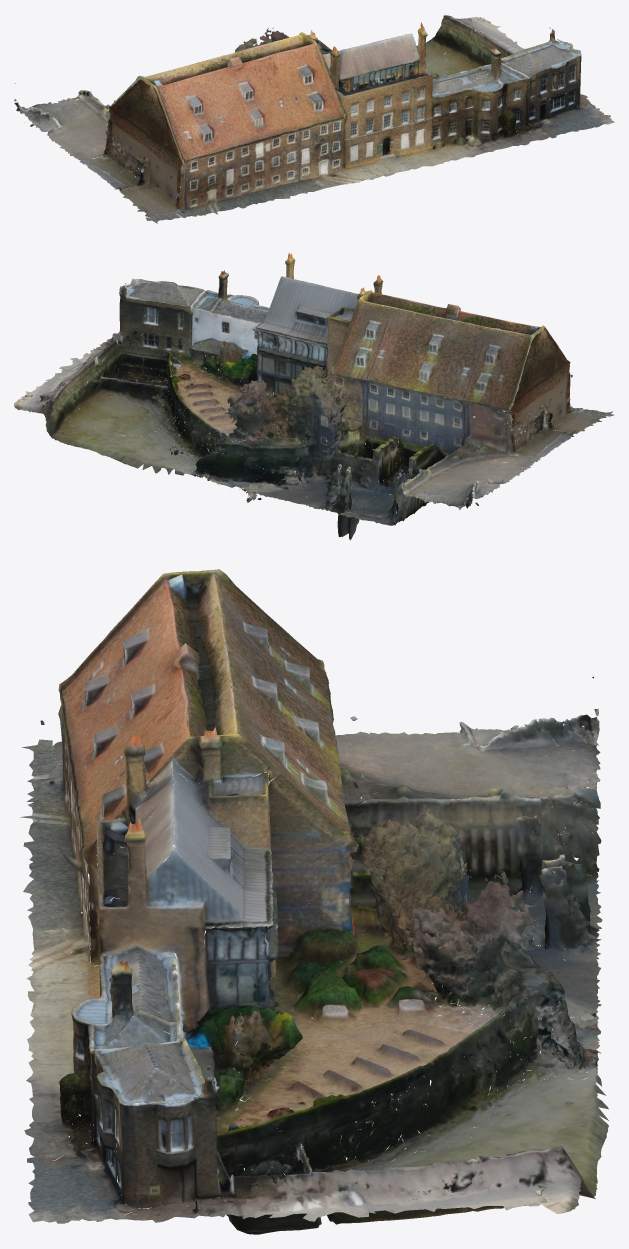
Rendered from housemill_slimmed_fix.gltf.
3 views of the same model, one above another, from view 1: azimuth 30°, elevation 25°; view 2: azimuth 150°, elevation 25°; view 3: azimuth 270°, elevation 25° (orthographic). The views are drawn at different scales.
Parts seen in each view (by area): view 1: Housemill; view 2: Housemill; view 3: Housemill.
Part boxes in pixels (x1,y1,x2,y2): Housemill: [14, 15, 614, 223]; Housemill: [14, 253, 614, 540]; Housemill: [20, 569, 608, 1234].
Bounding box in the file's own units: 26.87 × 9.29 × 14.47.
1 material, 1 textured.
